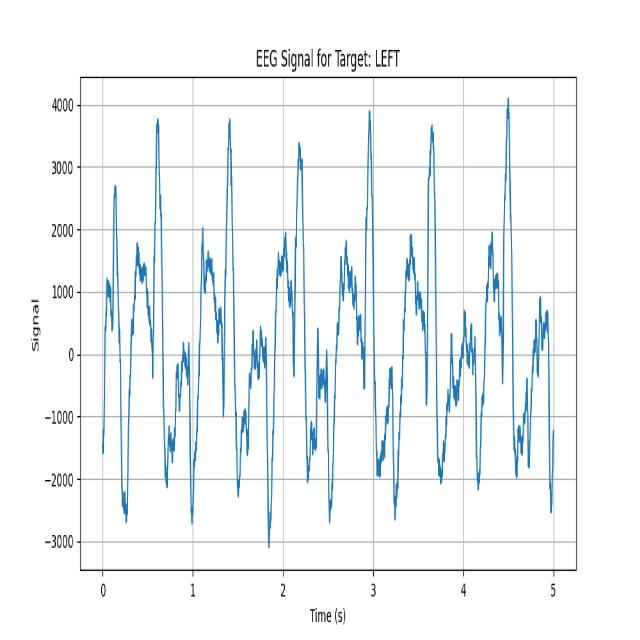LEFT: (261, 98, 337, 551), (465, 97, 541, 542), (338, 95, 411, 547), (134, 99, 203, 532), (202, 100, 262, 540), (410, 95, 466, 547)
